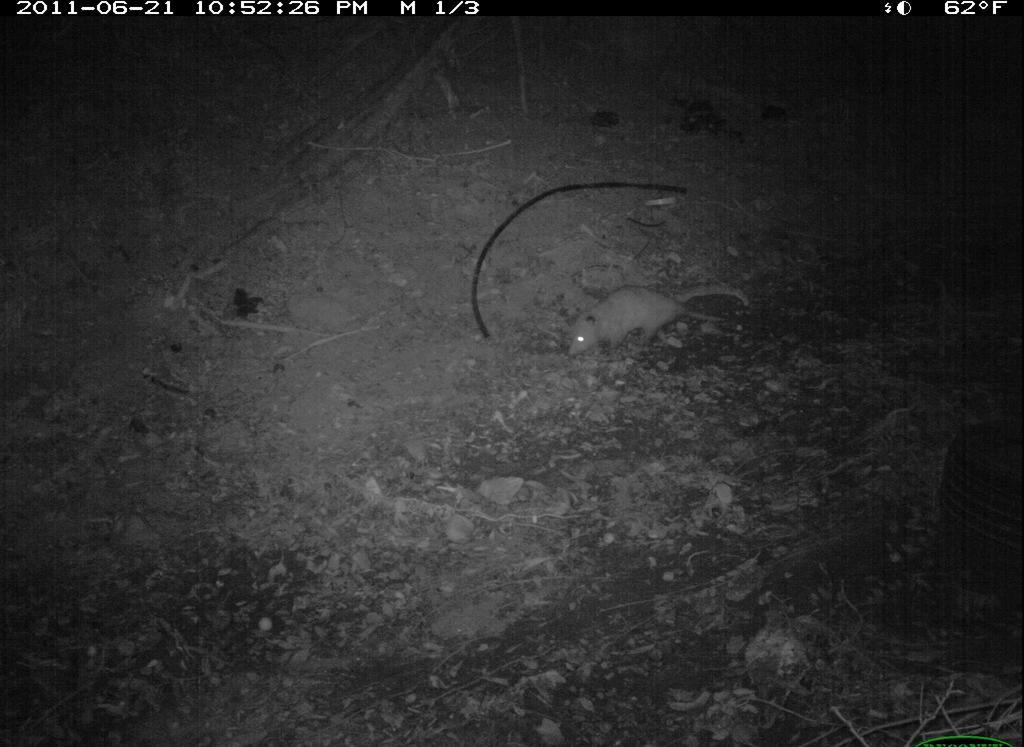opossum: (552, 272, 737, 369)
